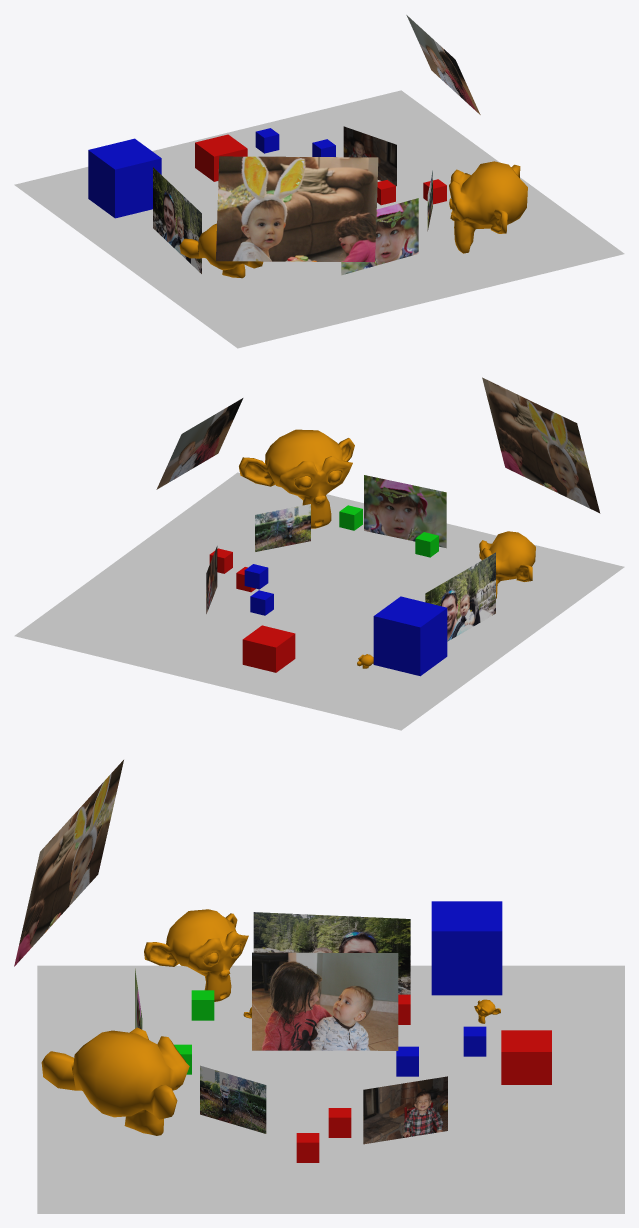
3 renders of one model, top to bottom at view 1: azimuth 30°, elevation 25°; view 2: azimuth 150°, elevation 25°; view 3: azimuth 270°, elevation 25°, orthographic. The views are drawn at different scales.
Visible parts, largest first — view 1: Plane, _2, Suzanne_001, Cube_007, bbp, IMG_20160917_142421, connor, _, Suzanne_003, Cube_008, Cube_001; view 2: Plane, _2, Suzanne_001, Cube_007, bbp, IMG_20160917_142421, _, IMG_4634_b, Suzanne_003, Cube_008, Cube_004, Cube_001 (+3 smaller); view 3: Plane, _, Suzanne_001, _2, Cube_007, IMG_20160917_142421, Suzanne_003, connor, IMG_4634_b, Cube_008, Cube_002, Cube_001 (+3 smaller).
Boxes of the visible parts, <box> form: Plane: <box>14,90,624,348</box>; _2: <box>216,156,378,262</box>; Suzanne_001: <box>449,161,527,253</box>; Cube_007: <box>88,138,161,218</box>; bbp: <box>341,198,418,275</box>; IMG_20160917_142421: <box>153,167,201,273</box>; connor: <box>343,126,396,186</box>; _: <box>406,15,480,114</box>; Suzanne_003: <box>179,223,263,278</box>; Cube_008: <box>195,134,247,181</box>; Cube_001: <box>255,128,279,153</box>; Plane: <box>14,472,624,730</box>; _2: <box>482,377,600,513</box>; Suzanne_001: <box>239,429,354,528</box>; Cube_007: <box>373,596,447,676</box>; bbp: <box>364,475,446,548</box>; IMG_20160917_142421: <box>425,552,495,641</box>; _: <box>156,398,243,489</box>; IMG_4634_b: <box>255,504,310,551</box>; Suzanne_003: <box>479,531,535,598</box>; Cube_008: <box>242,625,295,672</box>; Cube_004: <box>244,564,268,589</box>; Cube_001: <box>250,590,273,615</box>; Plane: <box>37,965,624,1213</box>; _: <box>252,952,398,1050</box>; Suzanne_001: <box>41,1027,189,1135</box>; _2: <box>14,760,123,966</box>; Cube_007: <box>431,901,502,995</box>; IMG_20160917_142421: <box>253,912,410,994</box>; Suzanne_003: <box>144,909,248,1001</box>; connor: <box>363,1076,447,1144</box>; IMG_4634_b: <box>200,1065,266,1133</box>; Cube_008: <box>501,1030,551,1084</box>; Cube_002: <box>191,990,214,1020</box>; Cube_001: <box>463,1026,486,1056</box>.
Size of the model in its own units: 51.83 by 53.88 by 22.24.
11 materials, 6 textured.
